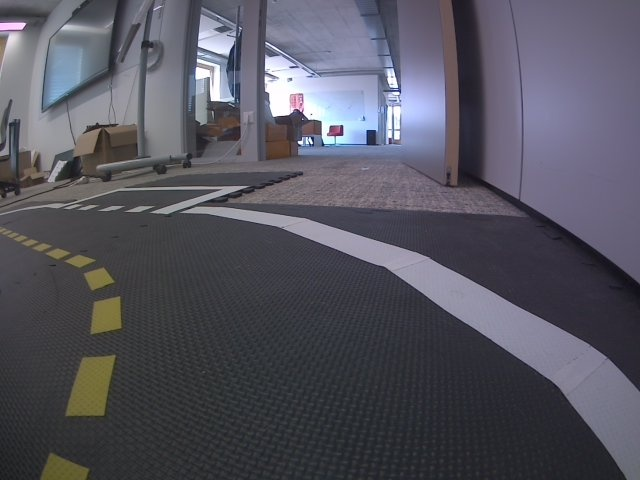freeSpot: (61, 186, 248, 215)
